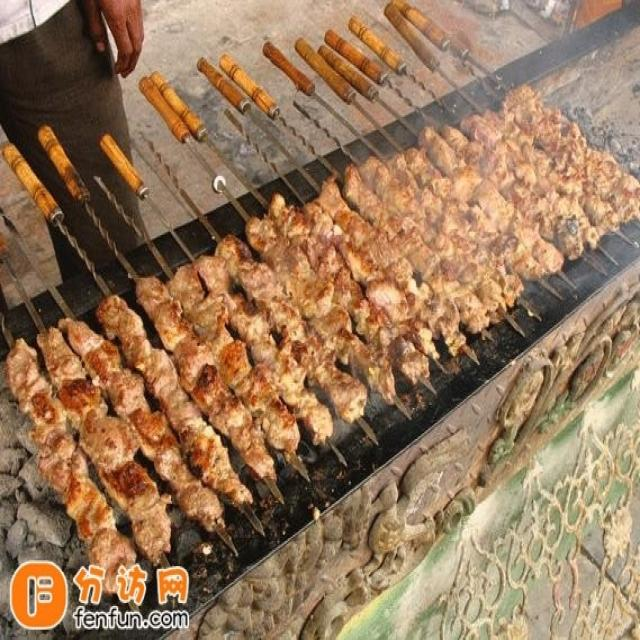烧串烤肉: (11, 50, 603, 599)
